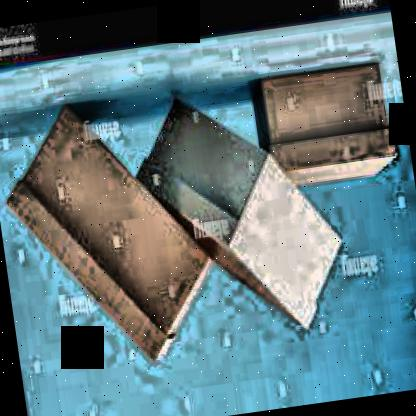no defect parcel: (94, 64, 382, 363), (0, 94, 249, 378), (243, 45, 404, 196)
